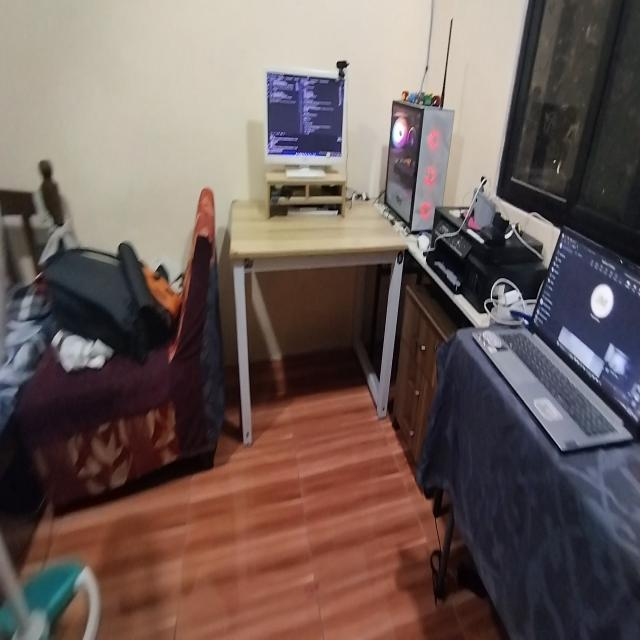table: (227, 190, 408, 449)
